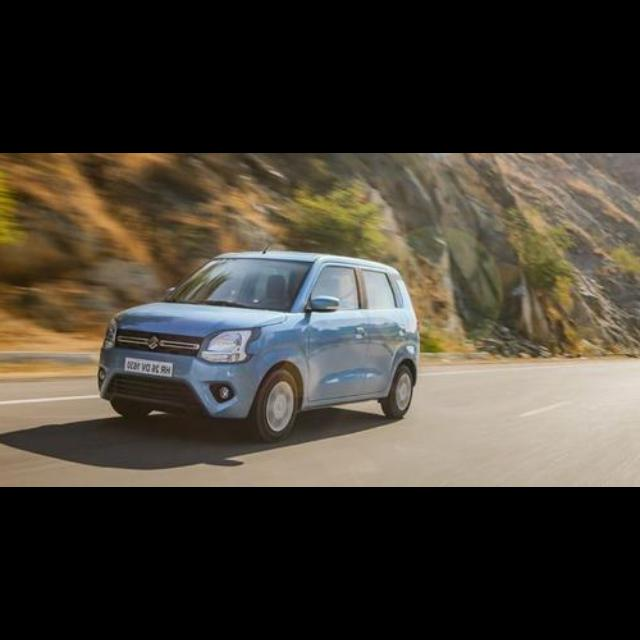vehicles: (99, 246, 419, 442)
